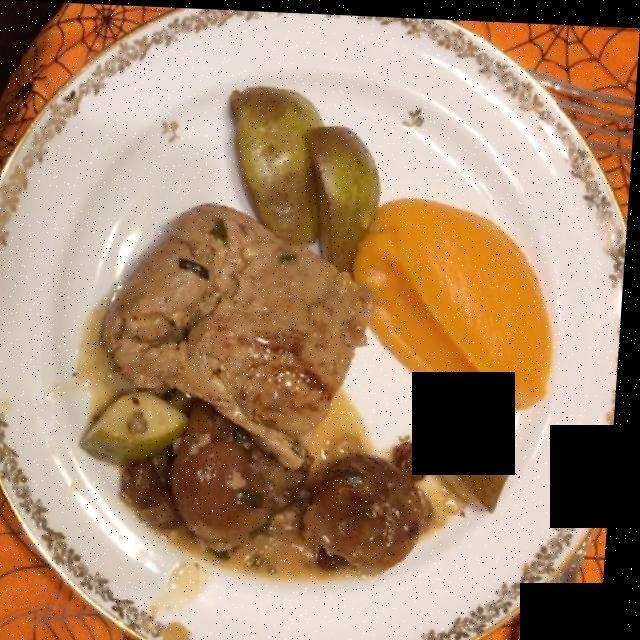apricot-dried: (174, 416, 419, 574)
pumpkin: (353, 196, 561, 401)
raisins: (148, 394, 432, 505)
sauce: (149, 393, 461, 564)
zucchini: (92, 384, 516, 512)
